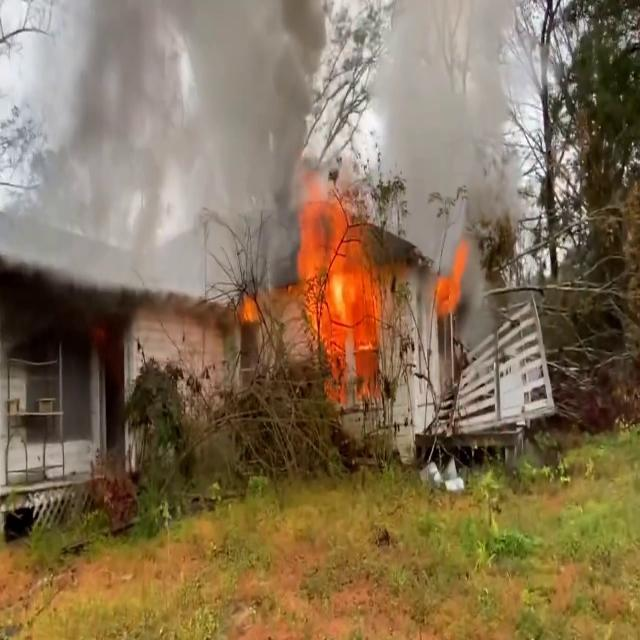Fire: (288, 194, 387, 400), (434, 231, 472, 323)
Smoke: (48, 1, 336, 266), (377, 1, 531, 265)
